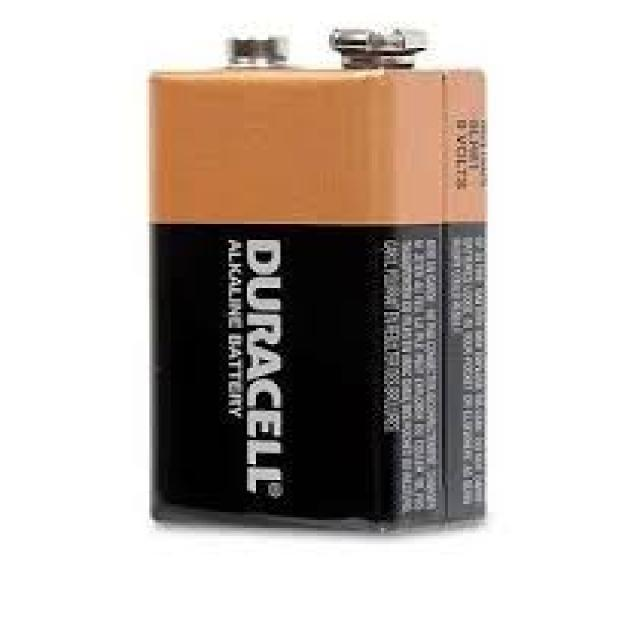9V: (146, 27, 488, 532)
